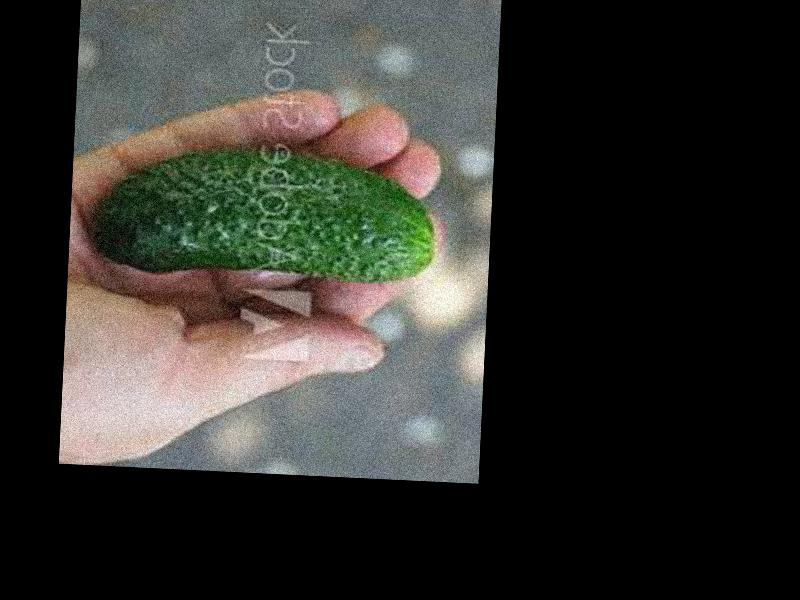Cucumber: (93, 139, 436, 285)
